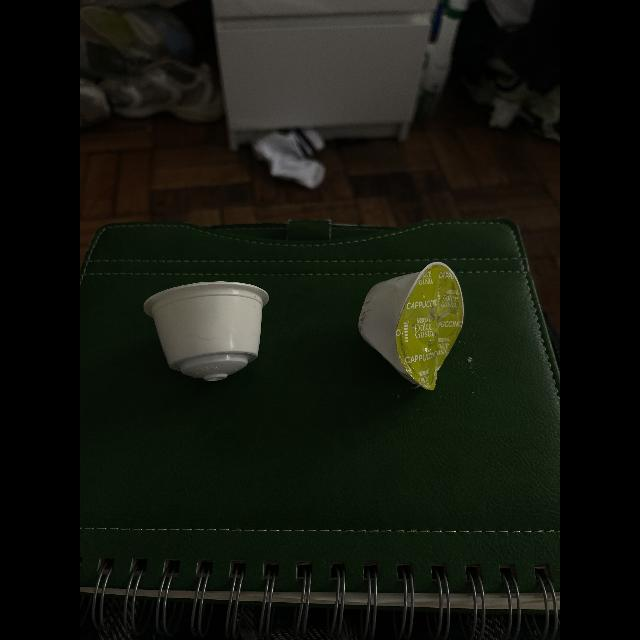damaged_capsule: (352, 260, 478, 400)
intact_capsule: (140, 270, 276, 388)
